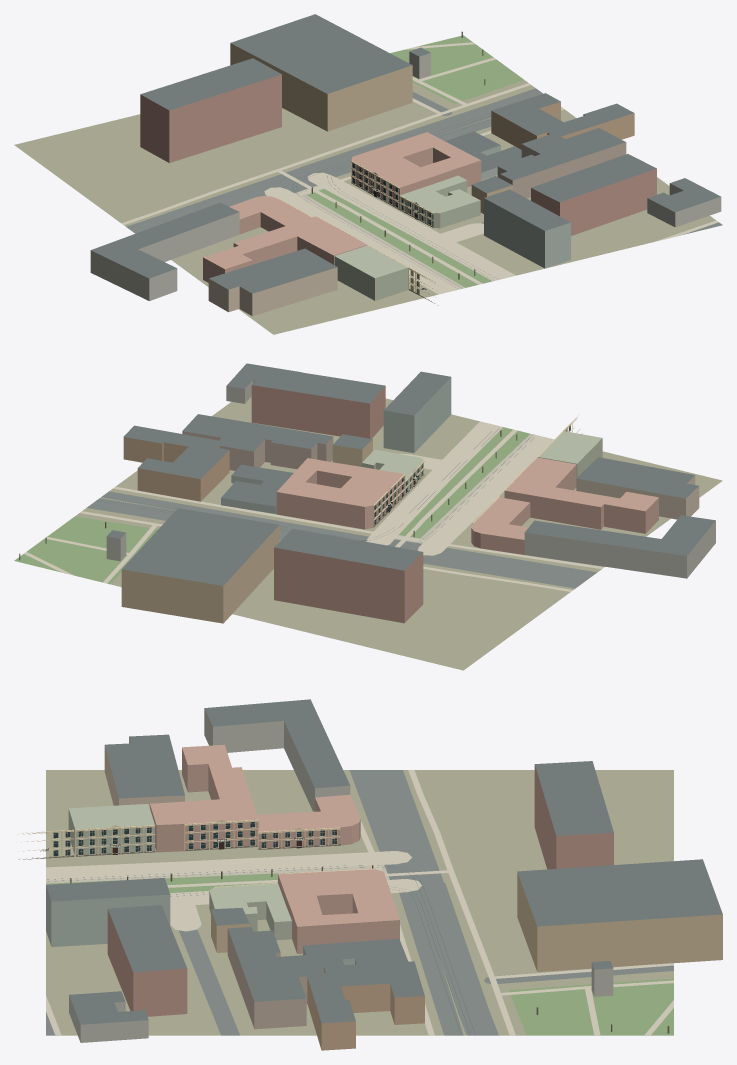
File: sector--1_-6.glb
3 views of the same model, one above another, from view 1: azimuth 30°, elevation 25°; view 2: azimuth 150°, elevation 25°; view 3: azimuth 270°, elevation 25° (orthographic). The views are drawn at different scales.
Parts seen in each view (by area): view 1: -1:-6-facade, -1:-6-ground, -1:-6-roof, -1:-6-masonry, -1:-6-paving, -1:-6-park, -1:-6-road, -1:-6-stone, -1:-6-boulevard, -1:-6-glass; view 2: -1:-6-facade, -1:-6-roof, -1:-6-ground, -1:-6-masonry, -1:-6-paving, -1:-6-park, -1:-6-road, -1:-6-stone, -1:-6-boulevard; view 3: -1:-6-ground, -1:-6-roof, -1:-6-facade, -1:-6-masonry, -1:-6-road, -1:-6-paving, -1:-6-park, -1:-6-stone, -1:-6-glass, -1:-6-boulevard, -1:-6-rail.
Boxes of the visible parts, x1,y1,x2,y2 form: -1:-6-facade: [90, 43, 721, 316]; -1:-6-ground: [14, 80, 715, 334]; -1:-6-roof: [91, 14, 720, 293]; -1:-6-masonry: [203, 132, 481, 300]; -1:-6-paving: [121, 42, 718, 294]; -1:-6-park: [306, 35, 523, 287]; -1:-6-road: [126, 88, 722, 234]; -1:-6-stone: [280, 160, 438, 305]; -1:-6-boulevard: [295, 185, 500, 293]; -1:-6-glass: [353, 163, 431, 292]; -1:-6-facade: [106, 377, 715, 623]; -1:-6-roof: [107, 363, 715, 585]; -1:-6-ground: [75, 397, 722, 670]; -1:-6-masonry: [276, 431, 658, 554]; -1:-6-paving: [24, 421, 603, 591]; -1:-6-park: [14, 427, 529, 584]; -1:-6-road: [86, 491, 596, 588]; -1:-6-stone: [373, 414, 582, 527]; -1:-6-boulevard: [395, 427, 534, 543]; -1:-6-ground: [46, 770, 673, 1035]; -1:-6-roof: [46, 699, 722, 1024]; -1:-6-facade: [46, 708, 722, 1050]; -1:-6-masonry: [68, 745, 399, 953]; -1:-6-road: [46, 770, 673, 1035]; -1:-6-paving: [46, 770, 673, 1035]; -1:-6-park: [46, 871, 673, 1035]; -1:-6-stone: [17, 819, 374, 887]; -1:-6-glass: [53, 822, 336, 856]; -1:-6-boulevard: [46, 865, 389, 904]; -1:-6-rail: [47, 865, 474, 1034].
Bounding box in the file's own units: 244 × 22.4 × 226.
